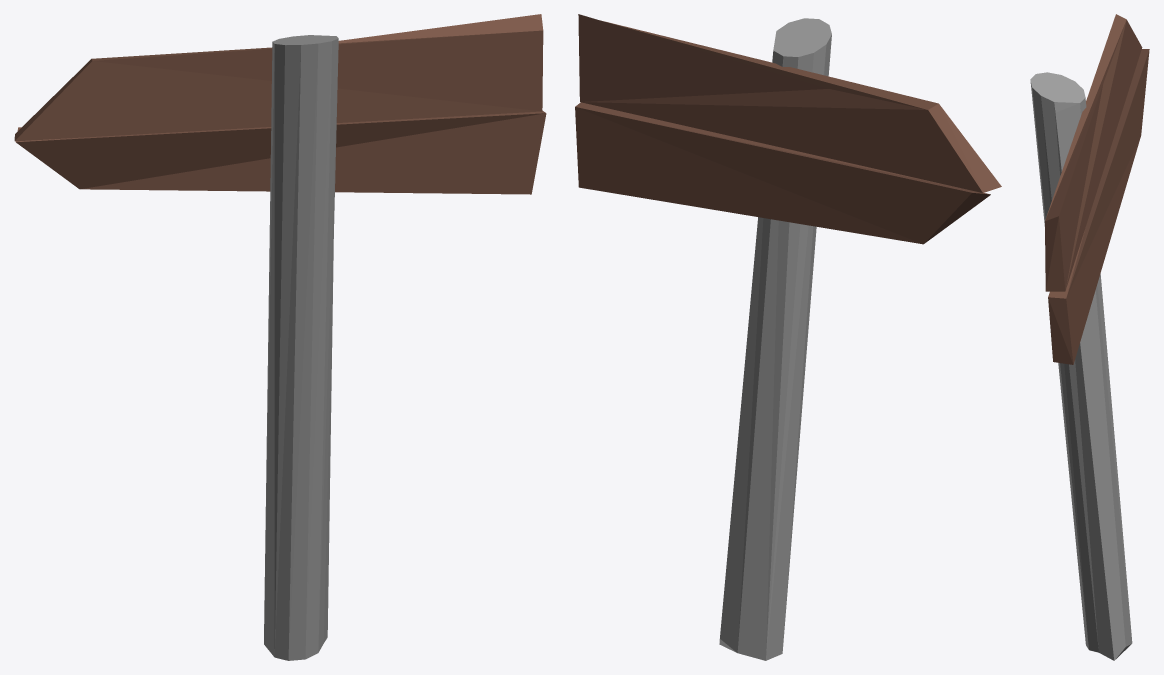
File: diy-sign-pointing-right.glb
The picture shows the model from 3 angles, left to right: view 1: azimuth 30°, elevation 25°; view 2: azimuth 150°, elevation 25°; view 3: azimuth 270°, elevation 25°; orthographic projection. The views are drawn at different scales.
Parts seen in each view (by area): view 1: group1957107362; view 2: group1957107362; view 3: group1957107362.
Part boxes in pixels (box(x1,y1,x2,y2)): group1957107362: box(14, 14, 546, 660); group1957107362: box(575, 14, 1001, 660); group1957107362: box(1030, 14, 1149, 660).
Size of the model in its own units: 0.179 by 0.2255 by 0.0437.
